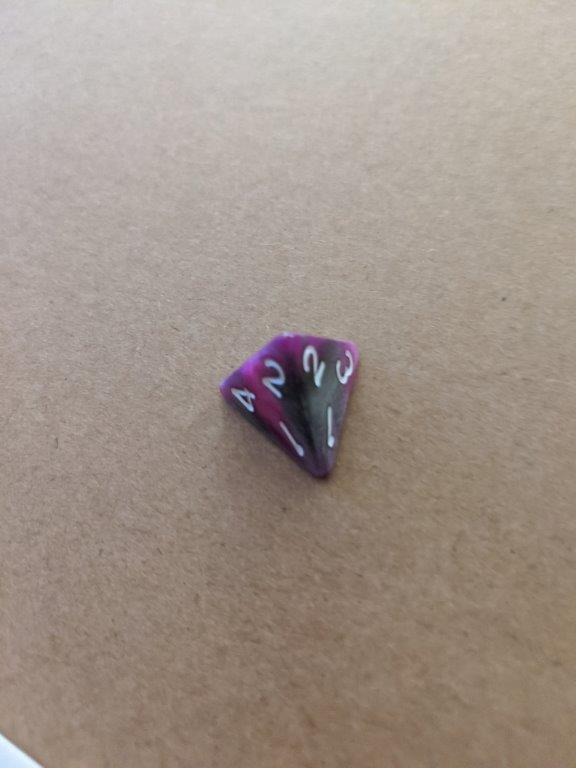d4-2: (215, 335, 365, 487)
